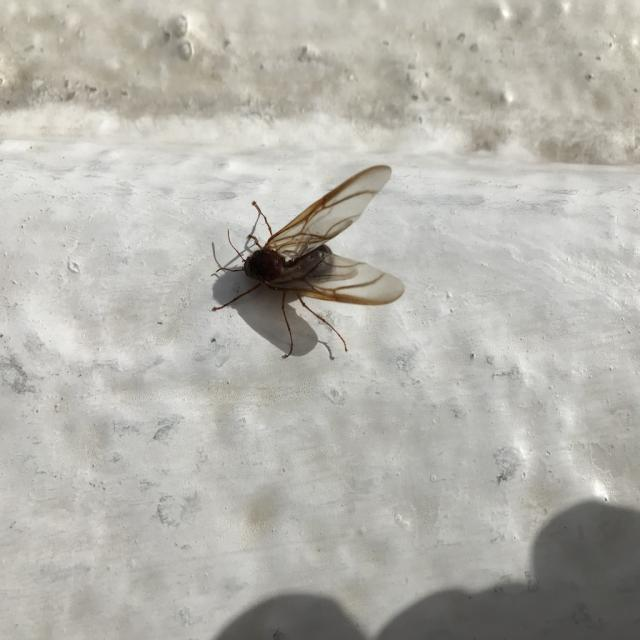Alive-Male-Alate: (211, 165, 405, 359)
